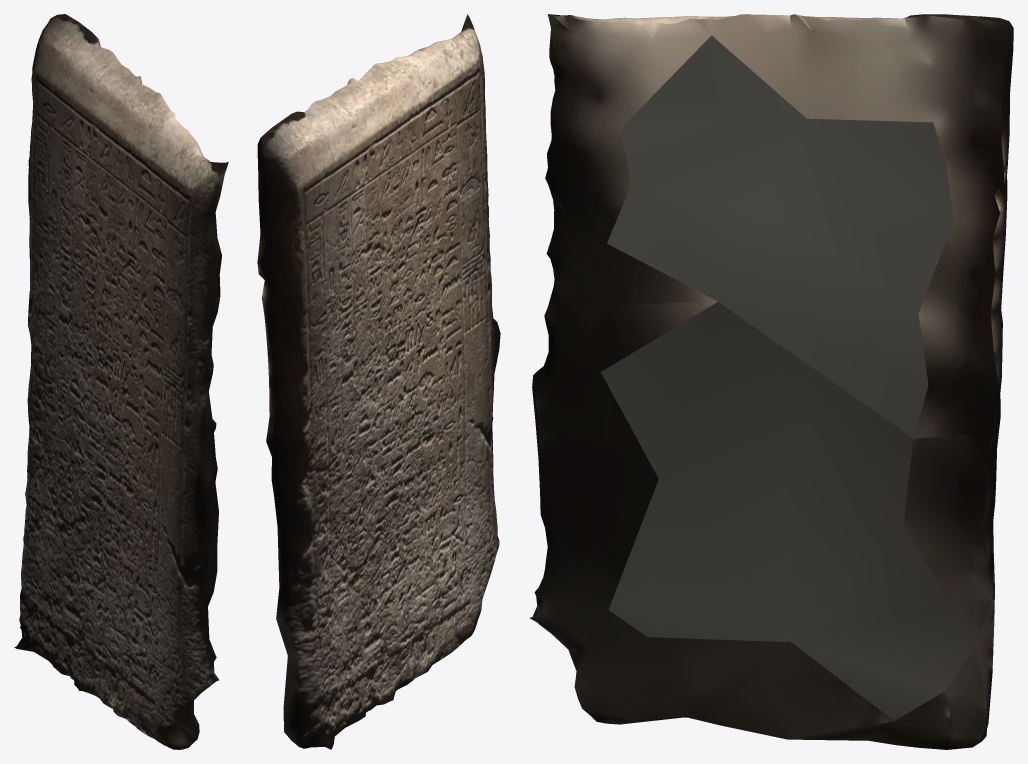
File: preview.glb
3 renders of one model, left to right at view 1: azimuth 30°, elevation 25°; view 2: azimuth 150°, elevation 25°; view 3: azimuth 270°, elevation 25°, orthographic. The views are drawn at different scales.
Visible parts, largest first — view 1: Object_2; view 2: Object_2; view 3: Object_2.
Part boxes in pixels (x1,y1,x2,y2): Object_2: (14,14,228,749); Object_2: (257,14,500,749); Object_2: (529,14,1013,749).
Size of the model in its own units: 1.46 by 13.08 by 7.68.
1 material, 1 textured.
